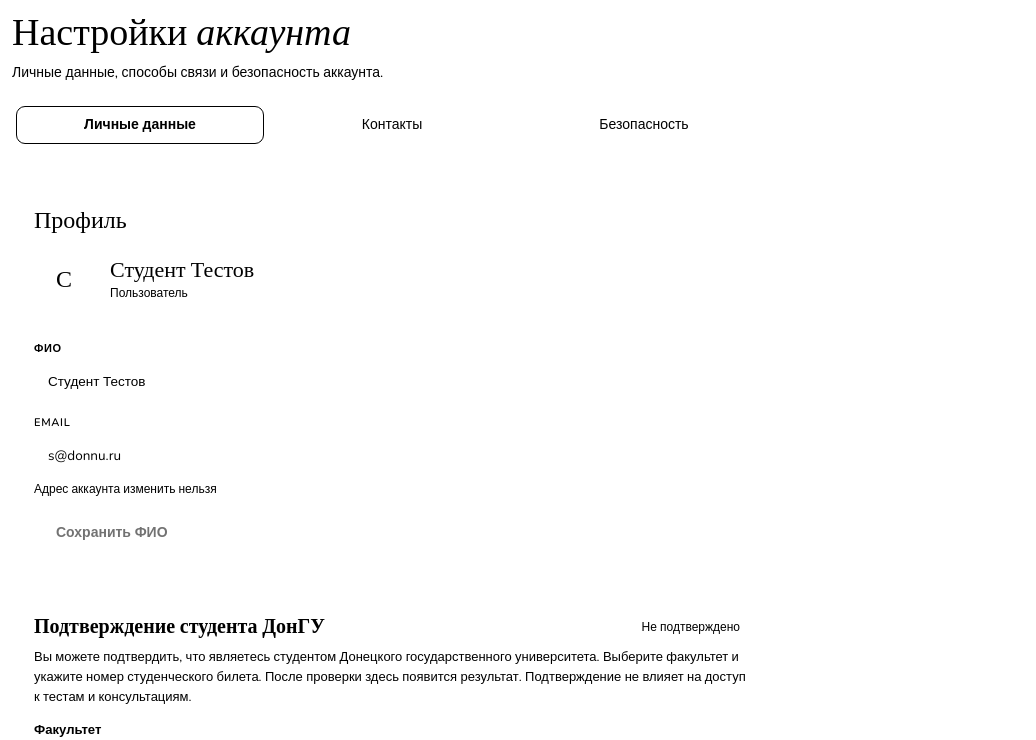
it: разделы настроек › сбой обновления шапки не выглядит как сбой сохранения
This screenshot has width=1036, height=740.
Replace the text in the field labelled "ФИО" with "Иван" at (392, 382), box [34,362,750,401]
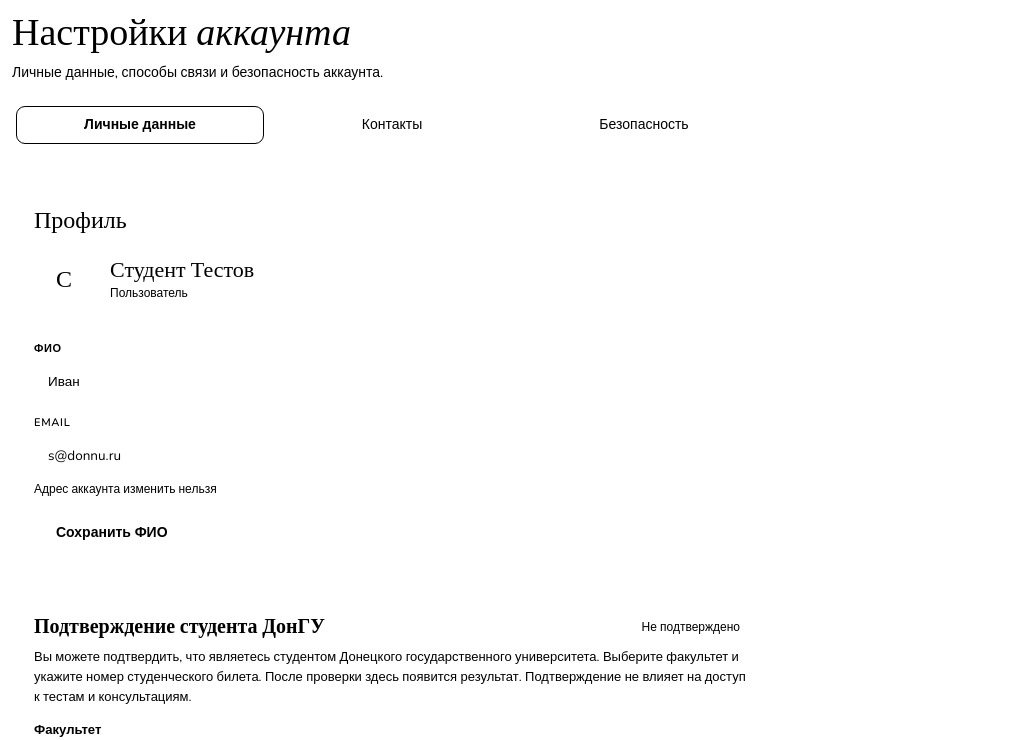
Click the button "Сохранить ФИО" at (112, 533), box [34,513,190,553]
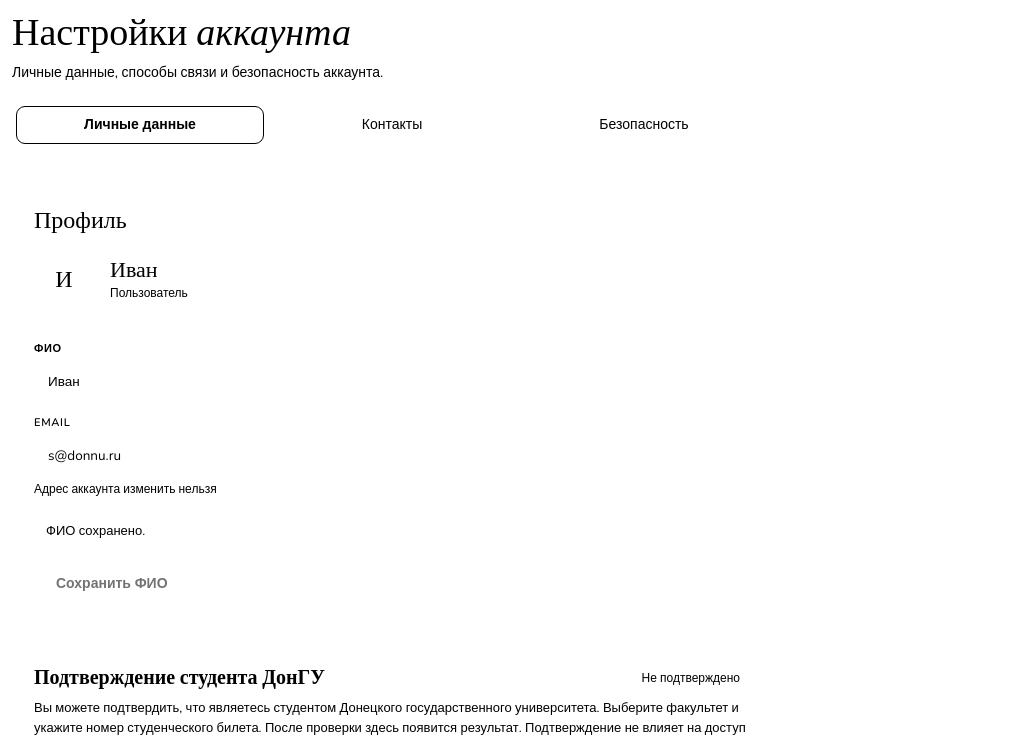
Check: the text "ФИО сохранено." is shown, box [46,522,145,540]
